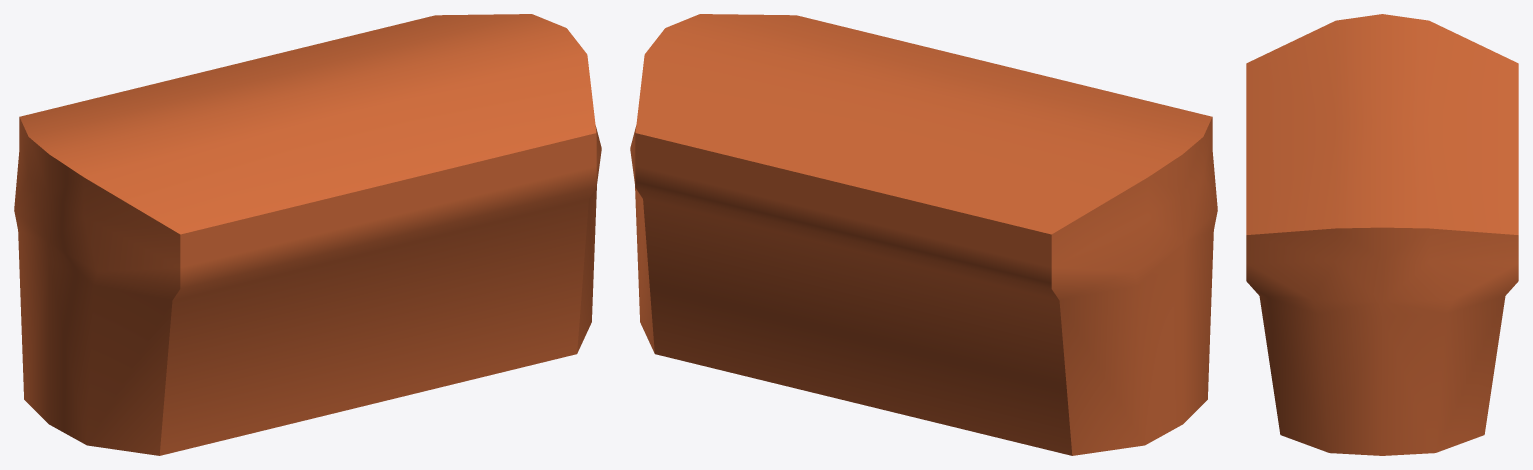
The model's file is Produce_Bread.glb.
3 views of the same model, side by side, from view 1: azimuth 30°, elevation 25°; view 2: azimuth 150°, elevation 25°; view 3: azimuth 270°, elevation 25° (orthographic). The views are drawn at different scales.
Visible parts, largest first — view 1: Box006; view 2: Box006; view 3: Box006.
Boxes of the visible parts, left/top/right/bottom form: Box006: left=14, top=14, right=601, bottom=455; Box006: left=630, top=14, right=1217, bottom=455; Box006: left=1246, top=14, right=1518, bottom=455.
Size of the model in its own units: 0.3669 by 0.1821 by 0.197.
